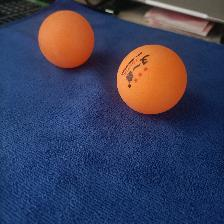YellowBall: (114, 43, 188, 116), (36, 9, 96, 69)
